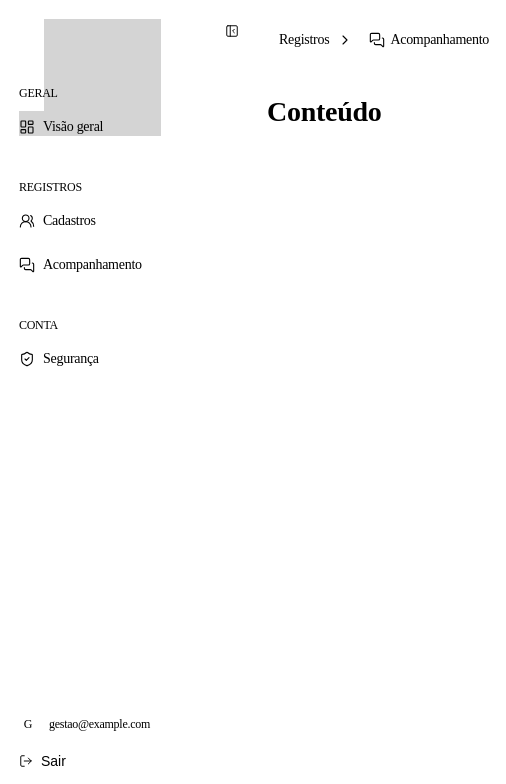
Test case: administrative shell › groups all tracking statuses under one sidebar item and supports collapsing the menu
The image size is (506, 784).
Click the button named "Recolher menu": (232, 31) [217, 16, 247, 46]
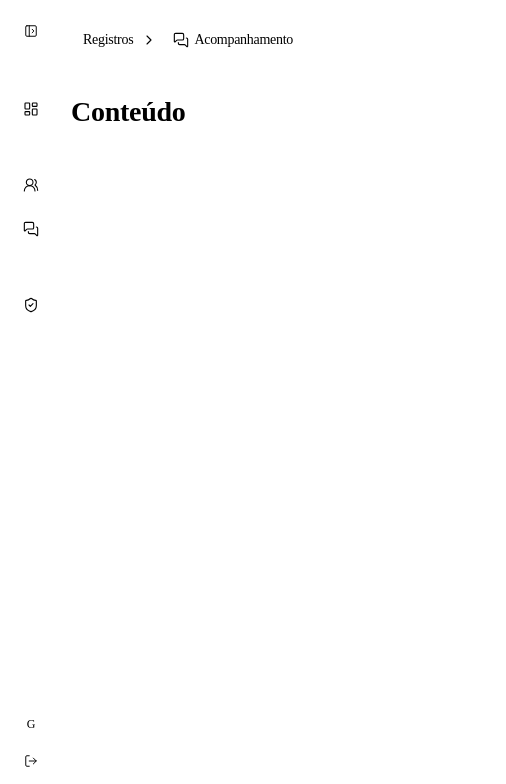
Check: the heading "Conteúdo" is shown, box [71, 96, 186, 127]
Check: the button named "Expandir menu" is collapsed, box [16, 16, 46, 46]
